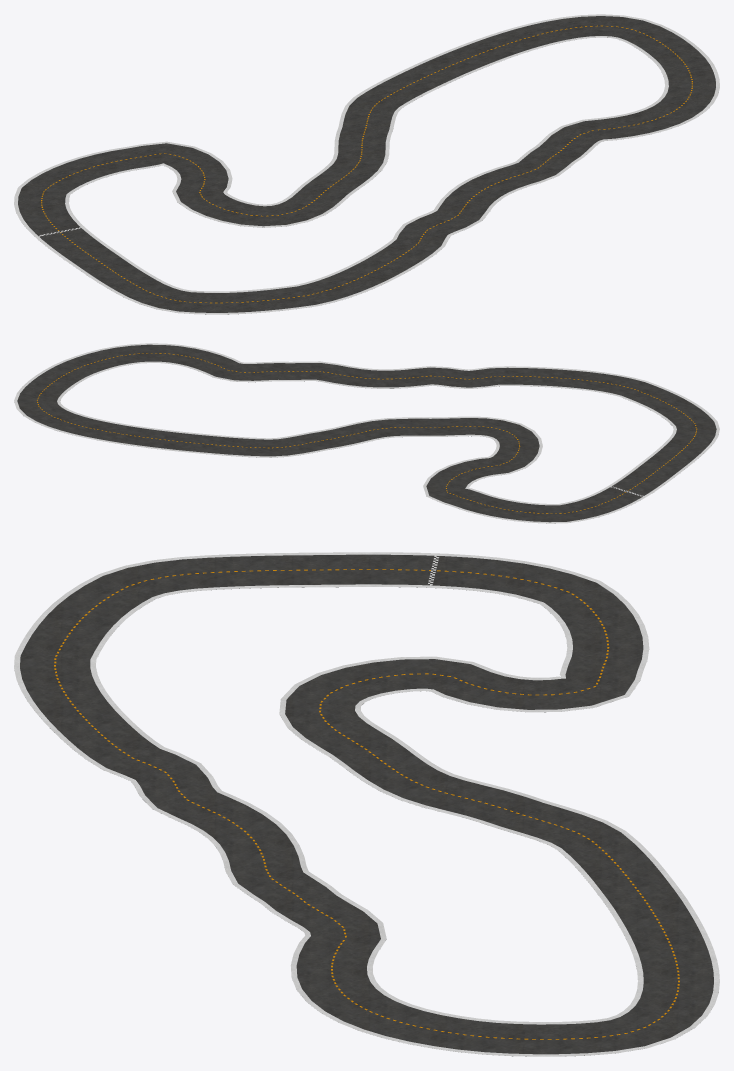
File: 2022_august_open.dae
3 renders of one model, top to bottom at view 1: azimuth 30°, elevation 25°; view 2: azimuth 150°, elevation 25°; view 3: azimuth 270°, elevation 25°, orthographic. The views are drawn at different scales.
Visible parts, largest first — view 1: road, il, ol, cl; view 2: road, il, ol, cl; view 3: road, il, ol, cl.
Boxes of the visible parts, left/top/right/bottom form: road: left=18, top=16, right=715, bottom=314; il: left=14, top=14, right=719, bottom=314; ol: left=65, top=36, right=668, bottom=292; cl: left=41, top=25, right=692, bottom=303; road: left=17, top=344, right=716, bottom=523; il: left=14, top=343, right=719, bottom=523; ol: left=57, top=361, right=676, bottom=505; cl: left=37, top=353, right=697, bottom=513; road: left=20, top=554, right=713, bottom=1056; il: left=14, top=552, right=719, bottom=1056; ol: left=90, top=584, right=643, bottom=1024; cl: left=54, top=569, right=679, bottom=1039.
Size of what is drawn, in the model's own units: 15.52 by 9.18 by 0.0015.
5 materials, 5 textured.
